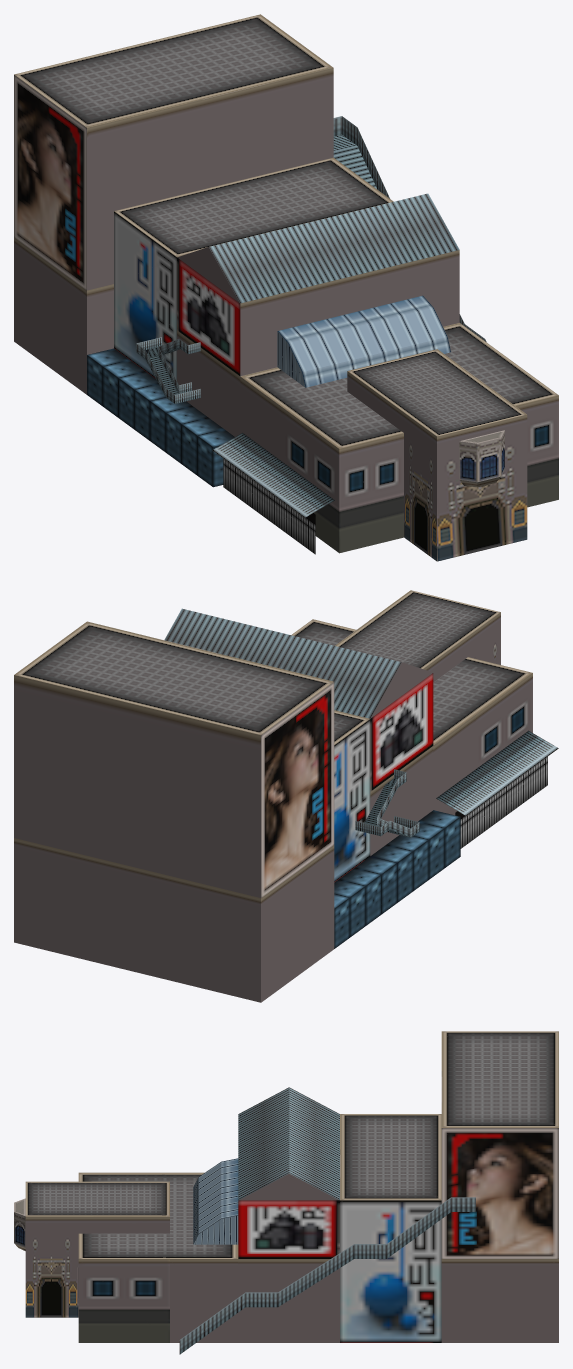
Rendered from Cinema.fbx.
3 views of the same model, one above another, from view 1: azimuth 30°, elevation 25°; view 2: azimuth 150°, elevation 25°; view 3: azimuth 270°, elevation 25° (orthographic). The views are drawn at different scales.
Parts seen in each view (by area): view 1: pasted__Cinema; view 2: pasted__Cinema; view 3: pasted__Cinema.
Part boxes in pixels (left/top/right/bottom): pasted__Cinema: left=14, top=14, right=558, bottom=561; pasted__Cinema: left=14, top=590, right=558, bottom=1002; pasted__Cinema: left=14, top=1031, right=558, bottom=1354.
Size of the model in its own units: 8.26 by 7.53 by 17.31.
